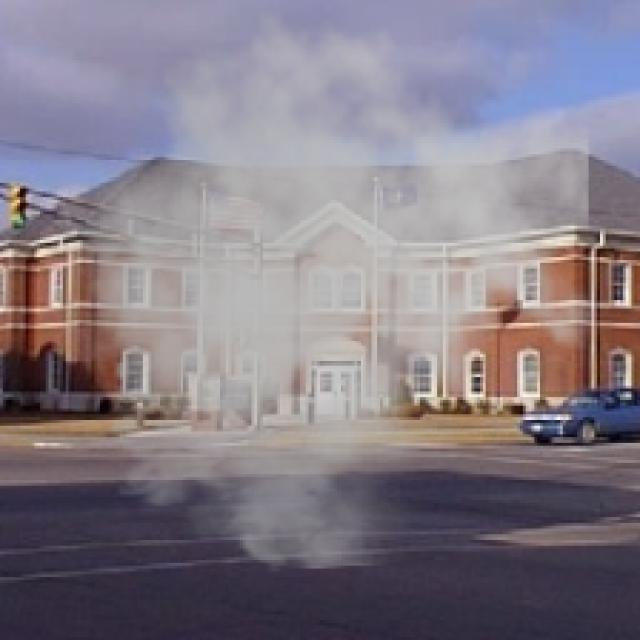smoke: (34, 6, 589, 571)
